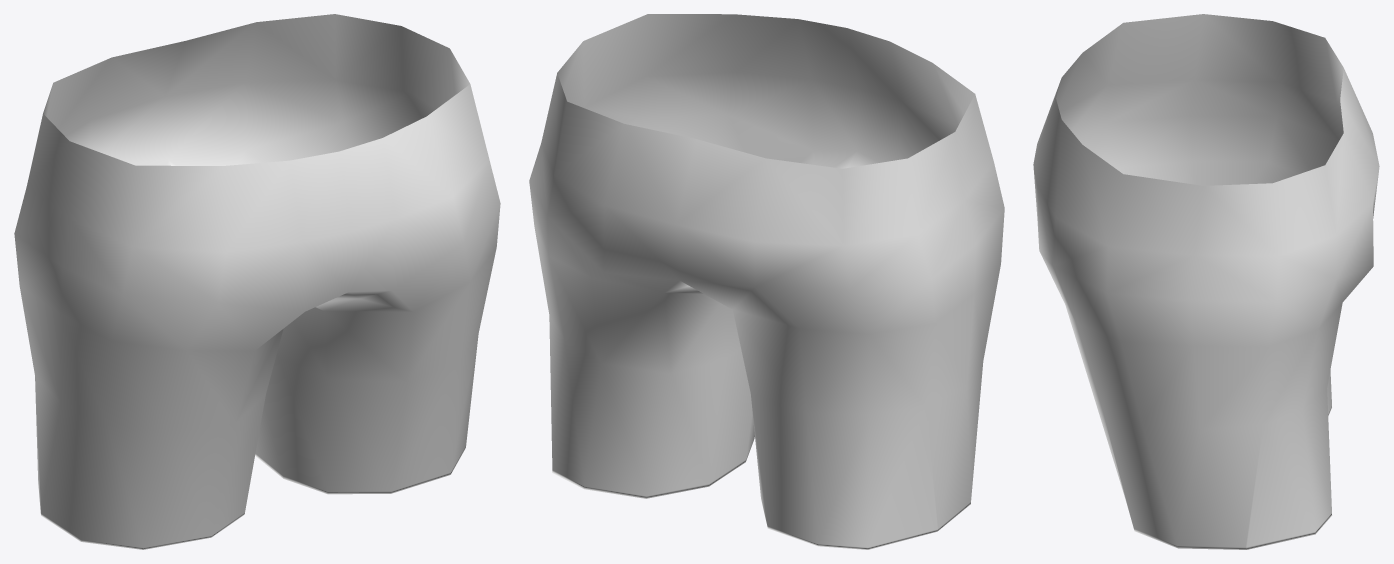
The model's file is AF_M_Trousers_13.fbx.
3 views of the same model, side by side, from view 1: azimuth 30°, elevation 25°; view 2: azimuth 150°, elevation 25°; view 3: azimuth 270°, elevation 25° (orthographic). The views are drawn at different scales.
Visible parts, largest first — view 1: AF_M_Trousers_13; view 2: AF_M_Trousers_13; view 3: AF_M_Trousers_13.
Boxes of the visible parts, bbox=[...] form: AF_M_Trousers_13: bbox=[14, 14, 500, 549]; AF_M_Trousers_13: bbox=[529, 14, 1004, 549]; AF_M_Trousers_13: bbox=[1033, 14, 1379, 549].
Bounding box in the file's own units: 344 × 315 × 270.
